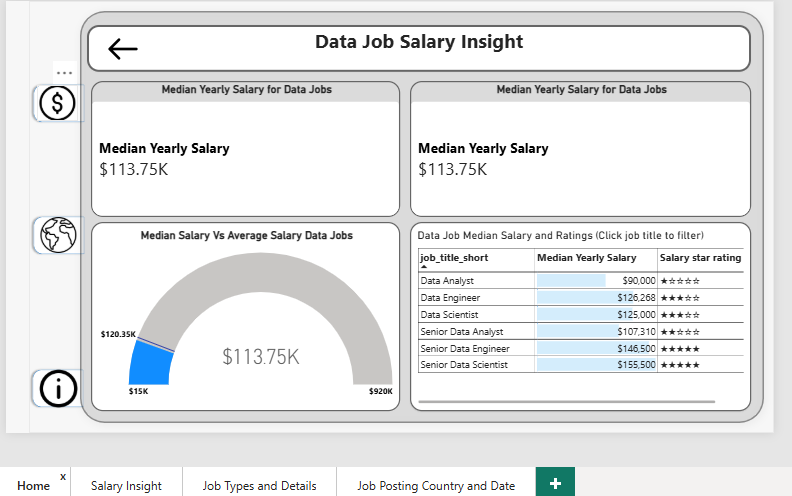

The page's visual inventory and layout, read from the dashboard file:
{"tool":"powerbi","page":{"name":"Home","canvas":[1920,1080],"ordinal":0},"visuals":[{"type":"shape","box":[56.7,913.3,145,112],"z":0},{"type":"shape","box":[60,200,145,112],"z":1000},{"type":"shape","box":[60,530,145,112],"z":2000},{"type":"shape","box":[160,0,1760,1080],"z":3000},{"type":"gauge","title":"Median Salary Vs Average Salary Data Jobs","fields":{"MinValue":["Min(job_postings_flat.salary_year_avg)"],"Y":["Median(job_postings_flat.salary_year_avg)"],"MaxValue":["Max(job_postings_flat.salary_year_avg)"],"TargetValue":["Avg(job_postings_flat.salary_year_avg)1"]},"box":[213.3,553.3,773.3,473.3],"z":4000},{"type":"image","box":[80,540,102,90],"z":5000},{"type":"image","box":[80,913.3,102.5,112.5],"z":6000},{"type":"tableEx","title":"Data Job Median Salary and Ratings (Click job title to filter)","fields":{"Values":["job_postings_flat.job_title_short","Median(job_postings_flat.salary_year_avg)","job_postings_flat.Median of salary_year_avg star rating"]},"box":[1010,553.3,853.3,473.3],"z":7000},{"type":"image","box":[76.7,210,102.5,90],"z":8000},{"type":"cardVisual","title":"Median Yearly Salary for Data Jobs","fields":{"Data":["Median(job_postings_flat.salary_year_avg)"]},"box":[213.3,200,773.3,340],"z":9000},{"type":"cardVisual","title":"Median Yearly Salary for Data Jobs","fields":{"Data":["Median(job_postings_flat.salary_year_avg)"]},"box":[1010,200,853.3,340],"z":10000},{"type":"textbox","box":[203.3,60,1660,116.7],"z":11000},{"type":"image","box":[213.3,80,160,80],"z":12000}]}

Visuals, with their boxes on the page's 1920x1080 design canvas (x1, y1, x2, y2). These are canvas units, not pixel positions in the 792x496 screenshot, which may show the page scaled, cropped or inside an application window:
shape: region(57, 913, 202, 1025)
shape: region(60, 200, 205, 312)
shape: region(60, 530, 205, 642)
shape: region(160, 0, 1920, 1080)
"Median Salary Vs Average Salary Data Jobs" gauge: region(213, 553, 987, 1027)
image: region(80, 540, 182, 630)
image: region(80, 913, 182, 1026)
"Data Job Median Salary and Ratings (Click job title to filter)" tableEx: region(1010, 553, 1863, 1027)
image: region(77, 210, 179, 300)
"Median Yearly Salary for Data Jobs" cardVisual: region(213, 200, 987, 540)
"Median Yearly Salary for Data Jobs" cardVisual: region(1010, 200, 1863, 540)
textbox: region(203, 60, 1863, 177)
image: region(213, 80, 373, 160)
